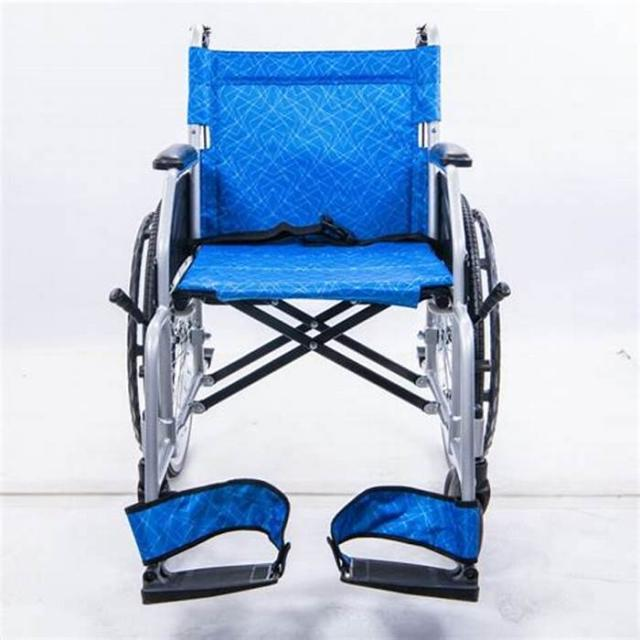wheelchairs: (118, 22, 506, 600)
